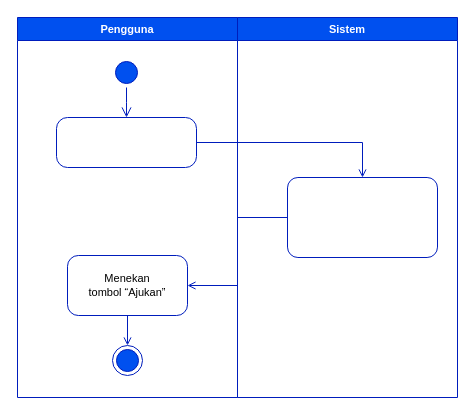
This 475x415 diagram has some shape labels left out. The centre of each missing label's shape, as x and y in pixels:
Membuka menu Surat/Permohonan: the point at 126,142
Menampilkan halaman surat/permohonan yang pernah diajukan: the point at 362,217
